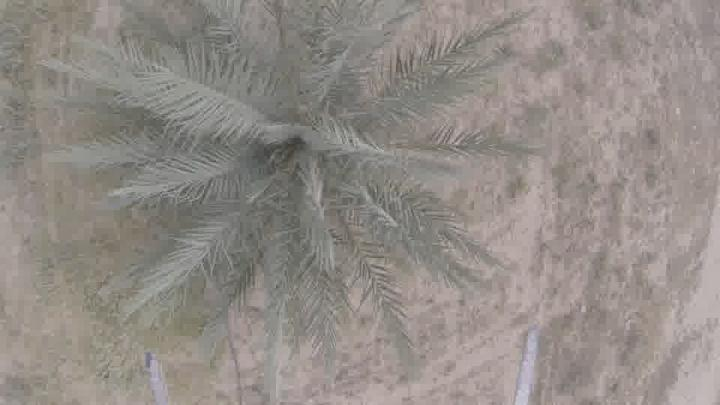Date-Palm-Crown: (151, 15, 444, 278)
